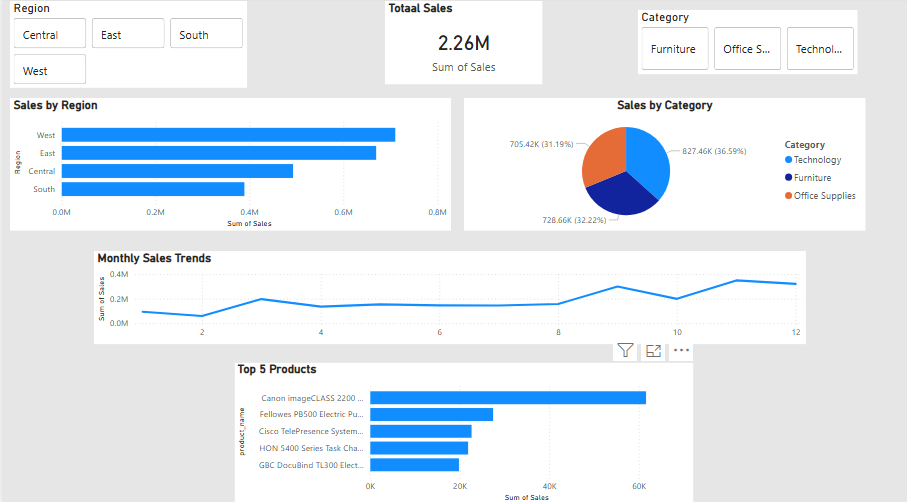

The page's visual inventory and layout, read from the dashboard file:
{"tool":"powerbi","page":{"name":"Page 1","canvas":[1280,720],"ordinal":0},"visuals":[{"type":"card","title":"Totaal Sales","fields":{"Values":["Sum(superstoresalesproject1.Sales)"]},"box":[541.4,5.8,223.2,118.1],"z":0},{"type":"barChart","title":"Sales by Region","fields":{"Y":["Sum(superstoresalesproject1.Sales)"],"Category":["superstoresalesproject1.Region"]},"box":[10.1,142.8,624.9,188.1],"z":1000},{"type":"pieChart","title":"Sales by Category","fields":{"Y":["Sum(superstoresalesproject1.Sales)"],"Category":["superstoresalesproject1.Category"]},"box":[653.4,142.8,569.4,188.1],"z":2000},{"type":"lineChart","title":"Monthly Sales Trends","fields":{"Y":["Sum(superstoresalesproject1.Sales)"],"Category":["superstoresalesproject1.month_number"]},"box":[129.6,360,1009.4,132.5],"z":3000},{"type":"barChart","title":"Top 5 Products","fields":{"Category":["superstoresalesproject1.product_name"],"Y":["Sum(superstoresalesproject1.Sales)"]},"box":[326.9,517,652.3,203],"z":4000},{"type":"advancedSlicerVisual","fields":{"Values":["superstoresalesproject1.Region"]},"box":[9.9,5.7,335.9,123.3],"z":5000},{"type":"advancedSlicerVisual","fields":{"Values":["superstoresalesproject1.Category"]},"box":[900,18.7,311,90.7],"z":6000}]}

Visuals, with their boxes in screenshot pixels (x1, y1, x2, y2), scaled from the page's 1280x720 canvas onto the 907x502 screenshot:
"Totaal Sales" card: 384 4 542 86
"Sales by Region" barChart: 7 100 450 231
"Sales by Category" pieChart: 463 100 866 231
"Monthly Sales Trends" lineChart: 92 251 807 343
"Top 5 Products" barChart: 232 360 694 501
advancedSlicerVisual - superstoresalesproject1.Region: 7 4 245 90
advancedSlicerVisual - superstoresalesproject1.Category: 638 13 858 76
